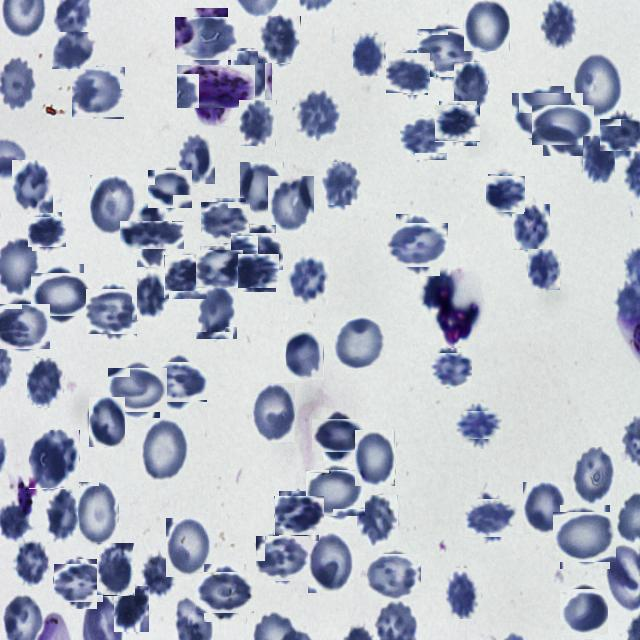difficult: (186, 56, 247, 117)
red blood cell: (556, 508, 614, 566), (572, 53, 623, 118), (140, 418, 190, 483), (29, 430, 80, 489), (90, 175, 138, 236), (332, 316, 386, 370), (77, 482, 120, 548), (309, 467, 362, 520), (36, 268, 88, 322), (392, 218, 444, 272), (514, 90, 568, 142), (308, 532, 354, 593), (420, 26, 472, 79), (180, 12, 232, 65), (112, 364, 164, 416), (73, 66, 125, 118), (572, 447, 617, 506), (537, 99, 589, 150), (268, 176, 314, 233), (88, 286, 140, 336), (166, 518, 210, 577), (368, 552, 418, 603), (252, 383, 295, 442), (200, 568, 250, 618), (257, 534, 307, 584), (154, 358, 202, 407), (231, 48, 273, 104), (0, 303, 48, 352), (355, 430, 396, 487), (523, 482, 567, 535), (240, 162, 284, 215), (12, 160, 54, 214), (196, 286, 238, 340), (464, 2, 510, 51), (562, 588, 608, 634), (468, 494, 514, 540), (401, 115, 447, 161), (128, 212, 174, 258), (286, 256, 329, 305), (357, 495, 398, 546), (276, 493, 322, 538), (202, 200, 248, 245), (258, 16, 301, 64), (176, 134, 216, 185), (235, 229, 280, 274), (0, 58, 37, 112), (97, 543, 134, 596), (56, 562, 100, 606), (296, 94, 340, 138), (316, 414, 361, 457), (540, 0, 579, 49), (26, 358, 64, 408), (446, 568, 482, 620), (318, 162, 361, 205), (165, 255, 208, 298), (198, 248, 241, 291), (387, 51, 429, 94), (89, 397, 125, 447), (12, 542, 52, 587), (286, 332, 324, 379), (512, 203, 550, 250), (238, 100, 276, 147), (46, 489, 78, 544), (436, 103, 478, 144), (132, 274, 169, 320), (150, 168, 190, 210), (112, 586, 148, 632), (52, 32, 96, 69), (454, 62, 488, 107), (583, 136, 615, 183), (432, 350, 470, 389), (604, 115, 640, 156), (487, 175, 525, 213), (460, 406, 498, 444), (240, 252, 278, 290), (353, 35, 385, 77), (142, 554, 174, 595), (528, 249, 560, 290), (30, 214, 64, 248)
